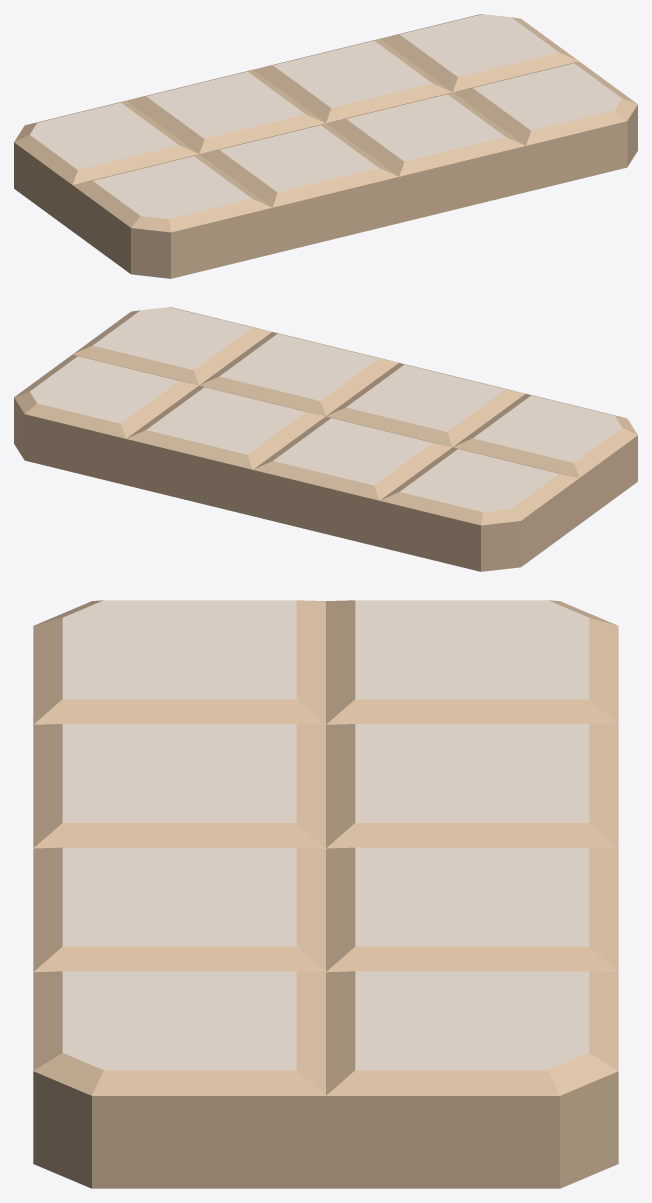
File: Puzzle_Sliding_Platform_1x2.obj
The picture shows the model from 3 angles, top to bottom: view 1: azimuth 30°, elevation 25°; view 2: azimuth 150°, elevation 25°; view 3: azimuth 270°, elevation 25°; orthographic projection. The views are drawn at different scales.
Parts seen in each view (by area): view 1: object1; view 2: object1; view 3: object1.
Boxes of the visible parts, x1,y1,x2,y2 form: object1: [14, 14, 637, 278]; object1: [14, 307, 637, 571]; object1: [33, 600, 618, 1188].
Bounding box in the file's own units: 2 × 0.3 × 1.
